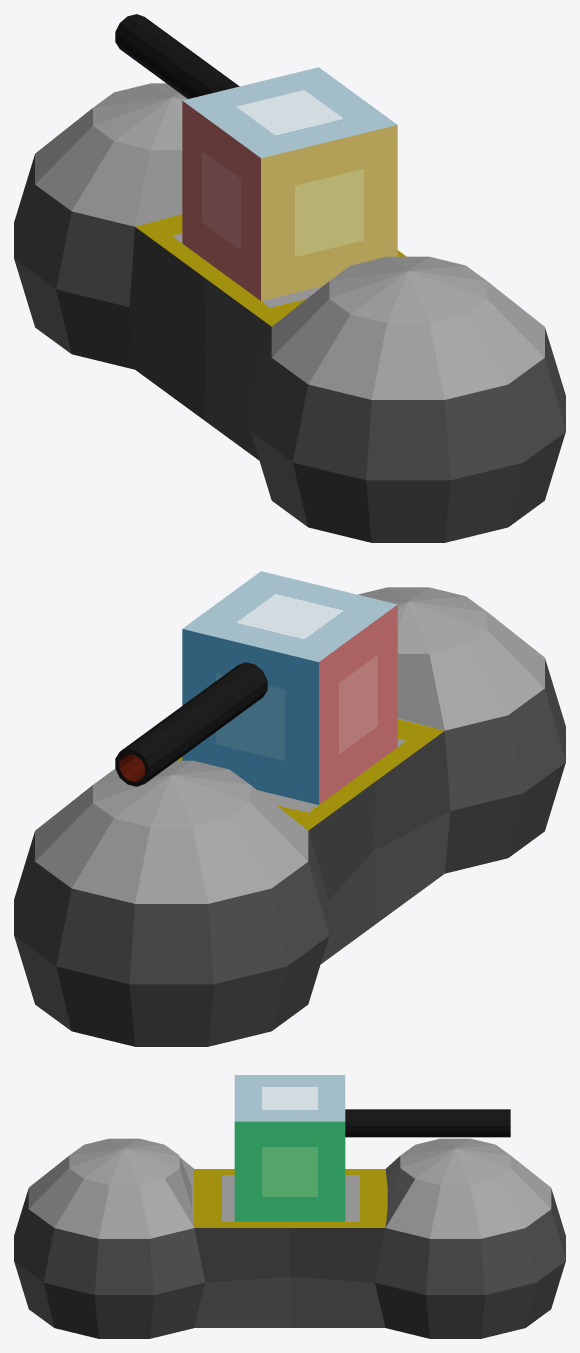
File: scout.gltf
The picture shows the model from 3 angles, top to bottom: view 1: azimuth 30°, elevation 25°; view 2: azimuth 150°, elevation 25°; view 3: azimuth 270°, elevation 25°; orthographic projection. The views are drawn at different scales.
Parts seen in each view (by area): view 1: Body, Turret; view 2: Body, Turret; view 3: Body, Turret.
Part boxes in pixels (bbox=[...]): Body: bbox=[14, 83, 565, 542]; Turret: bbox=[115, 14, 397, 300]; Body: bbox=[14, 587, 565, 1046]; Turret: bbox=[115, 571, 397, 804]; Body: bbox=[14, 1138, 565, 1338]; Turret: bbox=[234, 1075, 510, 1221].
Size of the model in its own units: 0.5 by 0.5 by 1.25.
Materials: 2 (2 with a texture image).
